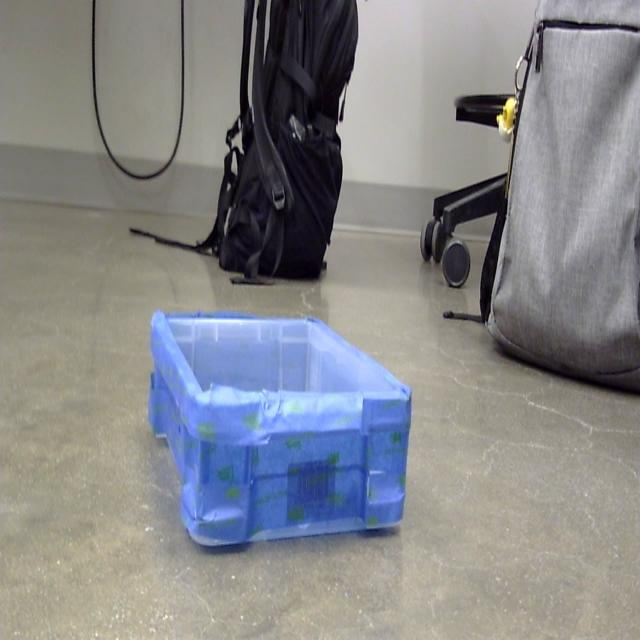bucket: (148, 312, 413, 554)
